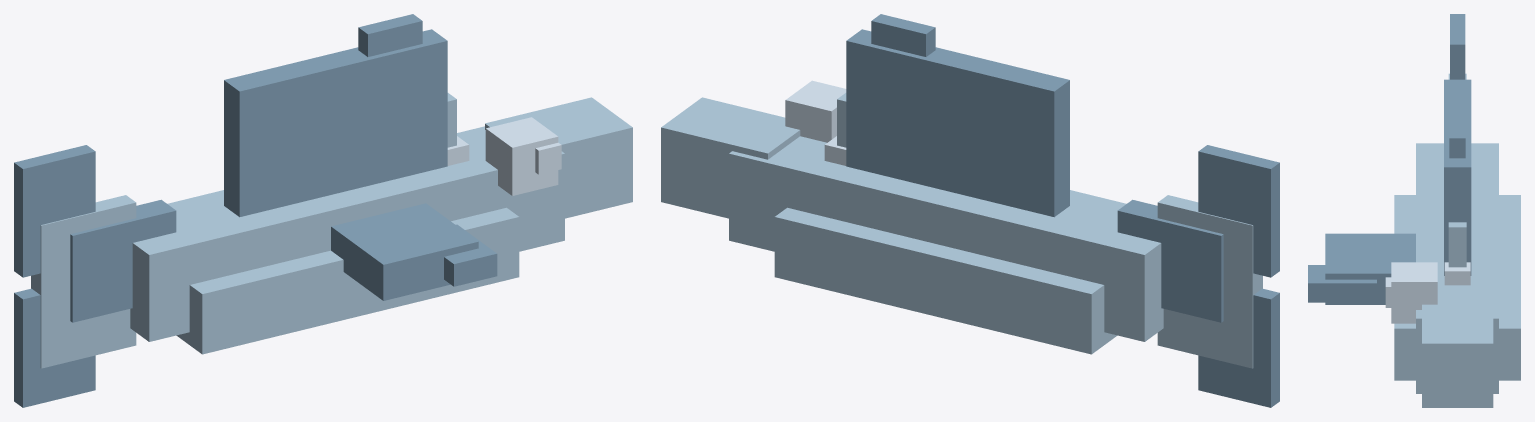
Rendered from fish_north_smelt.glb.
3 renders of one model, left to right at view 1: azimuth 30°, elevation 25°; view 2: azimuth 150°, elevation 25°; view 3: azimuth 270°, elevation 25°, orthographic. The views are drawn at different scales.
Visible parts, largest first — view 1: FishArt_body, FishArt_dorsal, FishArt_tail, FishArt_pectoral, FishArt_eye; view 2: FishArt_body, FishArt_dorsal, FishArt_tail, FishArt_eye; view 3: FishArt_body, FishArt_pectoral, FishArt_dorsal, FishArt_eye, FishArt_tail, FishArt_specialty.
Boxes of the visible parts, left/top/right/bottom form: FishArt_body: left=31, top=93, right=632, bottom=368; FishArt_dorsal: left=224, top=14, right=447, bottom=217; FishArt_tail: left=14, top=145, right=176, bottom=407; FishArt_pectoral: left=331, top=203, right=497, bottom=300; FishArt_eye: left=485, top=117, right=561, bottom=195; FishArt_body: left=661, top=93, right=1262, bottom=368; FishArt_dorsal: left=846, top=14, right=1069, bottom=217; FishArt_tail: left=1117, top=145, right=1279, bottom=407; FishArt_eye: left=785, top=80, right=846, bottom=142; FishArt_body: left=1394, top=73, right=1520, bottom=407; FishArt_pectoral: left=1308, top=233, right=1415, bottom=304; FishArt_dorsal: left=1444, top=79, right=1471, bottom=275; FishArt_eye: left=1385, top=262, right=1437, bottom=323; FishArt_tail: left=1450, top=14, right=1465, bottom=79; FishArt_specialty: left=1444, top=262, right=1470, bottom=285.
Bounding box in the file's own units: 0.3091 × 0.1442 × 0.111.
